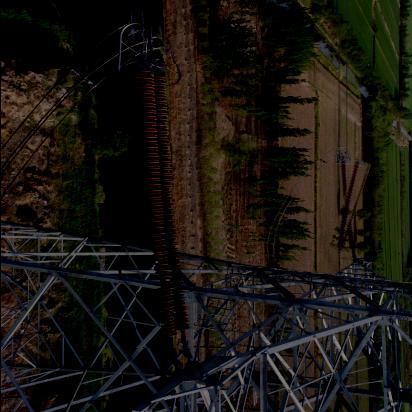insulator: (137, 65, 195, 349), (334, 160, 364, 252)
